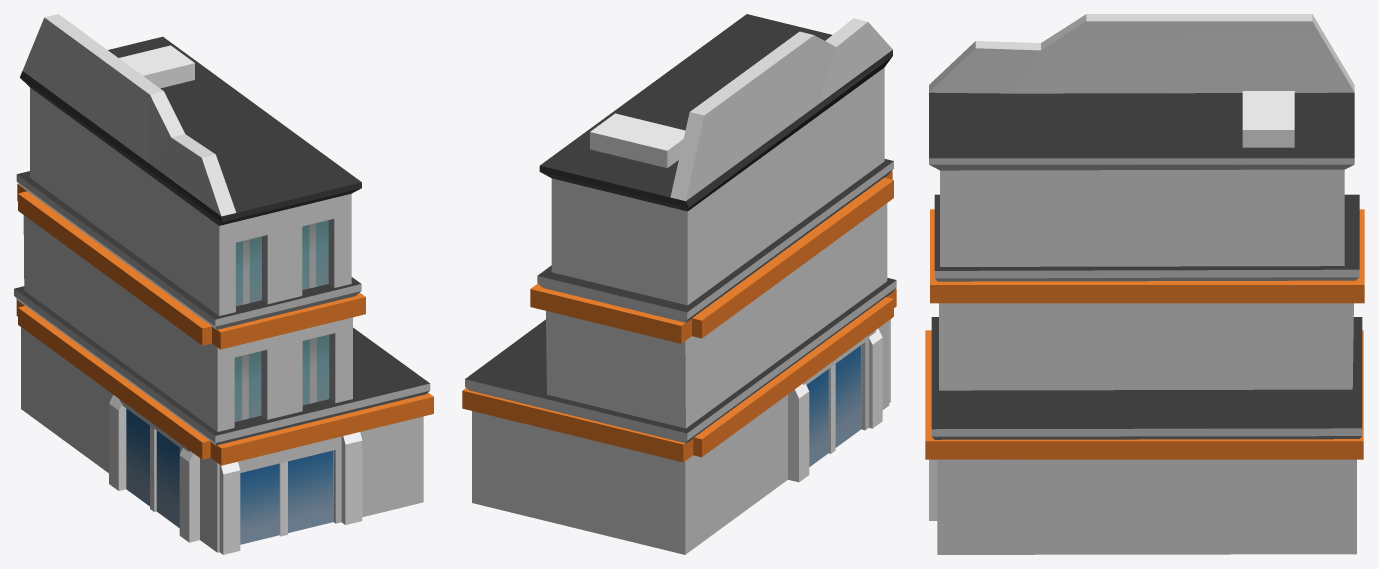
Rendered from French House 2.fbx.
3 views of the same model, side by side, from view 1: azimuth 30°, elevation 25°; view 2: azimuth 150°, elevation 25°; view 3: azimuth 270°, elevation 25° (orthographic). The views are drawn at different scales.
Parts seen in each view (by area): view 1: French House 2; view 2: French House 2; view 3: French House 2.
Part boxes in pixels (x1,y1,x2,y2): French House 2: [14, 14, 433, 554]; French House 2: [462, 14, 896, 554]; French House 2: [925, 14, 1364, 554].
Size of the model in its own units: 2.19 by 3.83 by 3.51.
